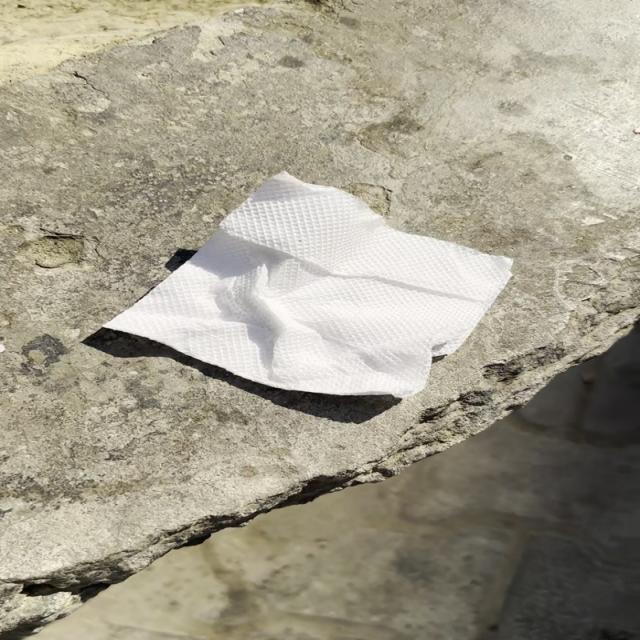tissue: (103, 164, 520, 413)
